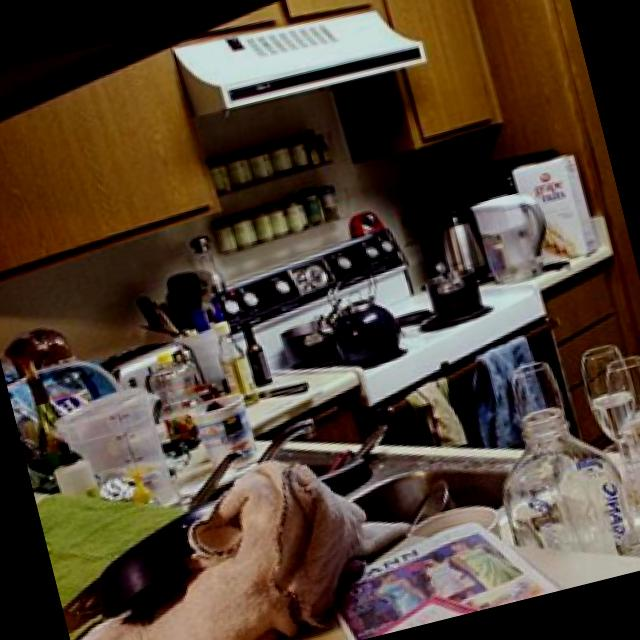mess: (0, 203, 640, 640)
